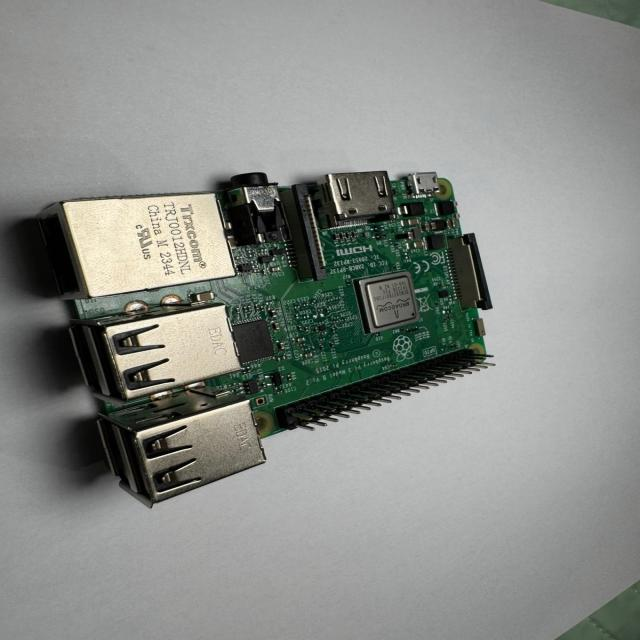CPU: (354, 269, 424, 336)
Ethernet: (27, 194, 239, 305)
GPIO: (277, 349, 507, 437)
HDMI: (312, 169, 397, 231)
RAM-3: (227, 316, 278, 366)
Raspberry: (21, 172, 493, 509)
